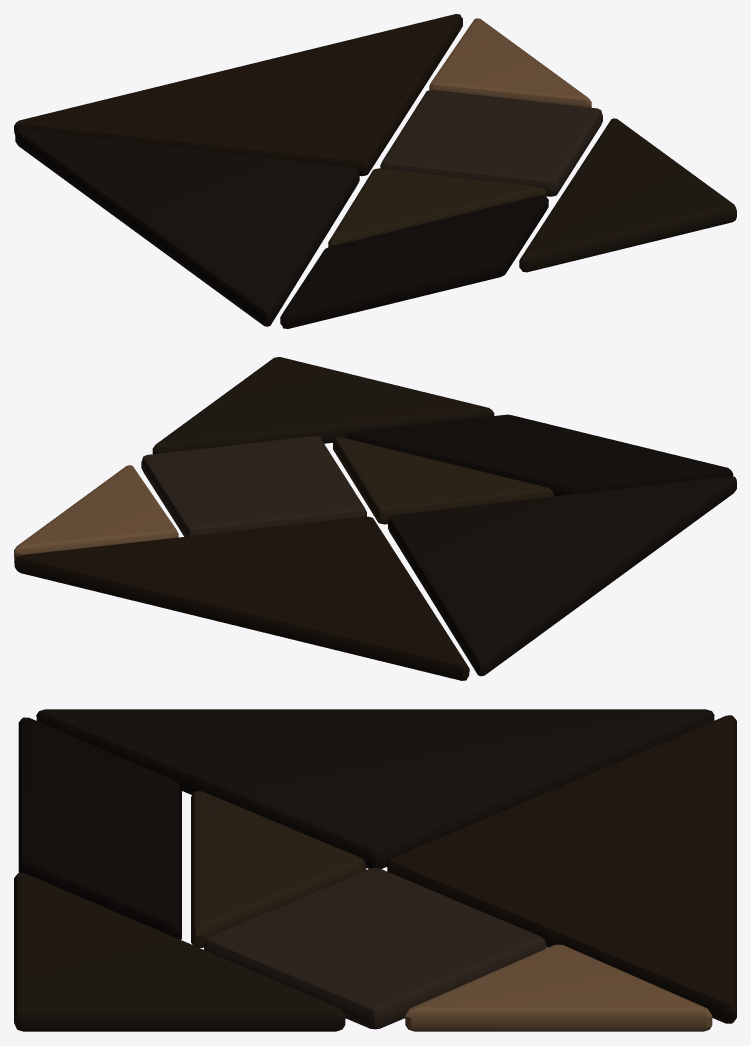
File: fichas-ososanteojos.obj
The picture shows the model from 3 angles, top to bottom: view 1: azimuth 30°, elevation 25°; view 2: azimuth 150°, elevation 25°; view 3: azimuth 270°, elevation 25°; orthographic projection. The views are drawn at different scales.
Parts seen in each view (by area): view 1: polySurface5, polySurface2, polySurface7, polySurface4, polySurface3, polySurface6, polySurface1; view 2: polySurface5, polySurface2, polySurface3, polySurface4, polySurface7, polySurface6, polySurface1; view 3: polySurface2, polySurface5, polySurface4, polySurface3, polySurface7, polySurface1, polySurface6.
Part boxes in pixels (x1,y1,x2,y2): polySurface5: (14,14,462,176); polySurface2: (15,129,359,326); polySurface7: (280,195,548,328); polySurface4: (519,118,736,272); polySurface3: (380,89,602,196); polySurface6: (328,168,546,246); polySurface1: (429,18,591,107); polySurface5: (14,516,469,680); polySurface2: (388,476,736,676); polySurface3: (141,436,366,536); polySurface4: (152,357,494,454); polySurface7: (347,414,733,496); polySurface6: (333,437,553,524); polySurface1: (14,465,178,559); polySurface2: (36,709,714,868); polySurface5: (387,715,736,1023); polySurface4: (14,872,345,1031); polySurface3: (204,868,546,1029); polySurface7: (18,717,181,939); polySurface1: (405,944,712,1031); polySurface6: (191,791,366,947).
Size of the model in its own units: 11.78 by 0.4446 by 11.81.
